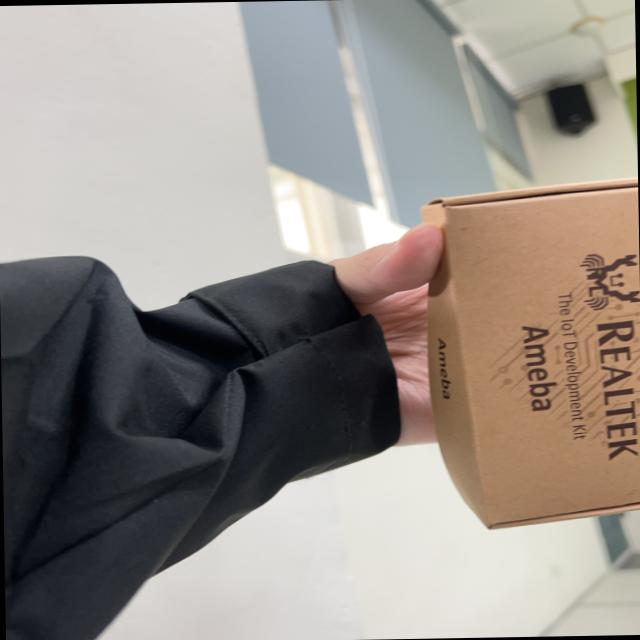box: (390, 172, 640, 538)
